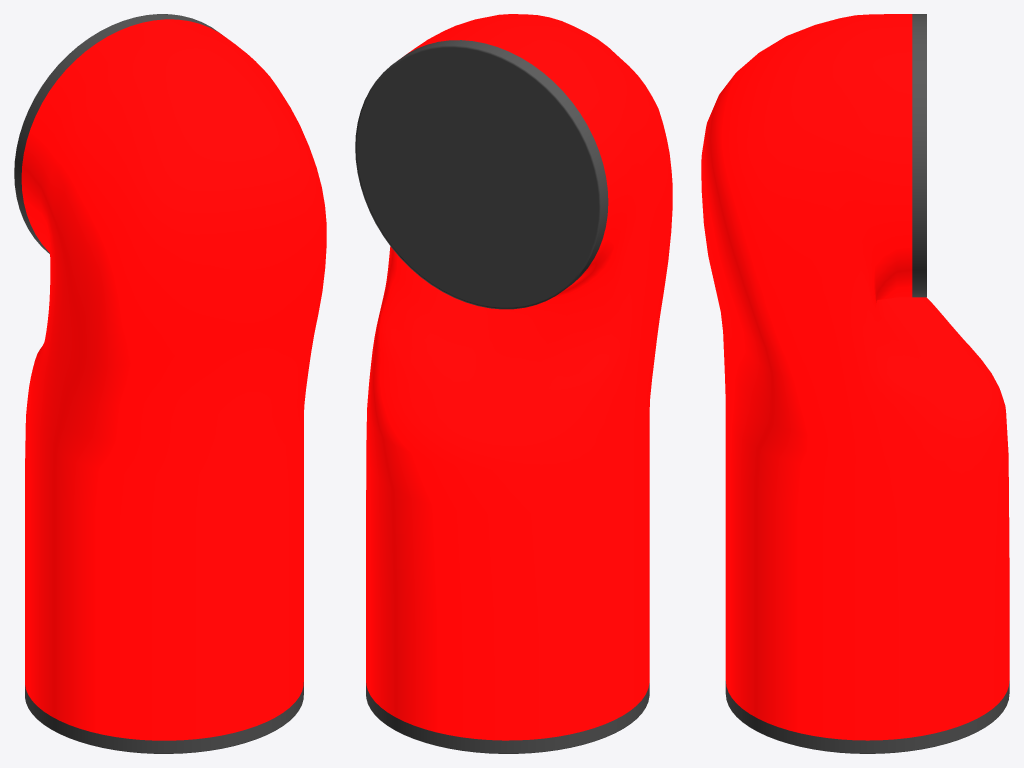
The picture shows the model from 3 angles, left to right: view 1: azimuth 30°, elevation 25°; view 2: azimuth 150°, elevation 25°; view 3: azimuth 270°, elevation 25°; orthographic projection.
Parts seen in each view (by area): view 1: Link01; view 2: Link01; view 3: Link01.
Boxes of the visible parts, x1=… form: Link01: x1=14, y1=14, x2=326, y2=753; Link01: x1=355, y1=14, x2=672, y2=753; Link01: x1=701, y1=14, x2=1009, y2=753.
Size of the model in its own units: 0.0956 by 0.1037 by 0.2478.
